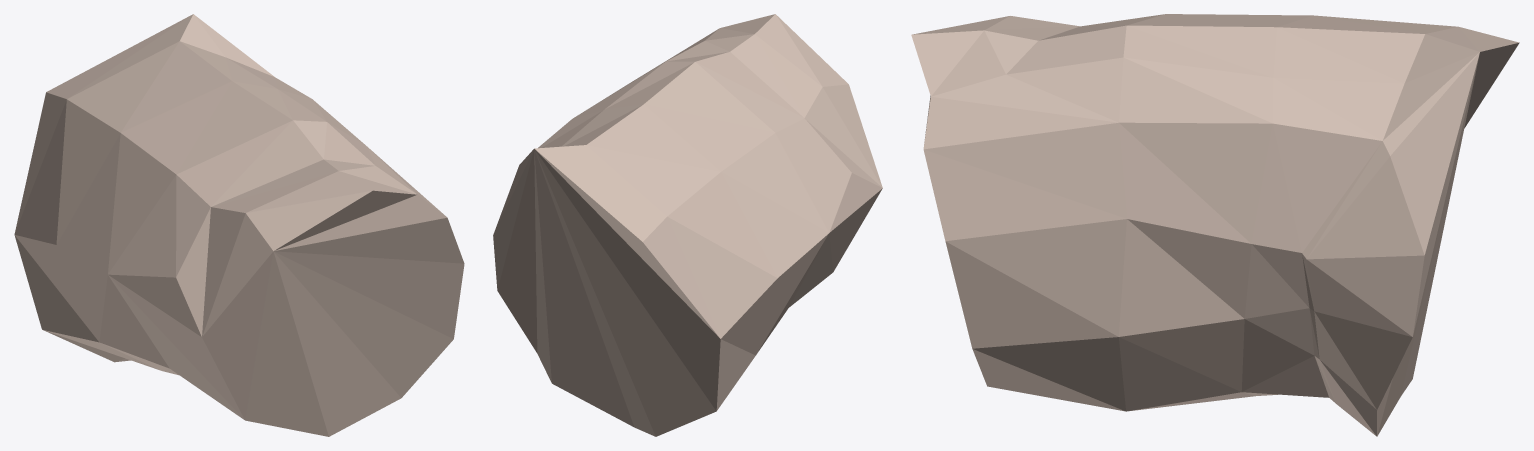
File: RBaby1stPhalange.dae
3 views of the same model, side by side, from view 1: azimuth 30°, elevation 25°; view 2: azimuth 150°, elevation 25°; view 3: azimuth 270°, elevation 25° (orthographic). The views are drawn at different scales.
Visible parts, largest first — view 1: ShapeIndexedFaceSet; view 2: ShapeIndexedFaceSet; view 3: ShapeIndexedFaceSet.
Part boxes in pixels (bbox=[...]): ShapeIndexedFaceSet: bbox=[14, 14, 464, 436]; ShapeIndexedFaceSet: bbox=[493, 14, 882, 436]; ShapeIndexedFaceSet: bbox=[911, 14, 1519, 436].
Size of the model in its own units: 0.0172 by 0.0256 by 0.0184.
